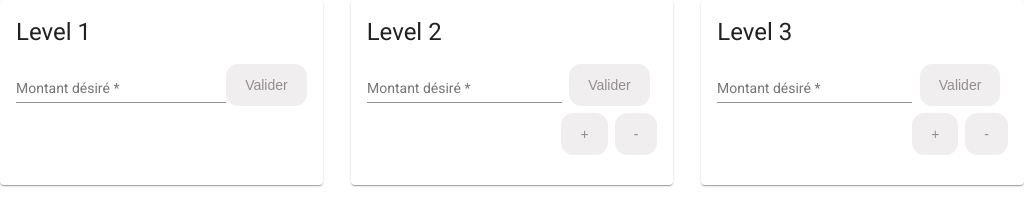
Test: Level 2 - Combination › Field required
Click the 2nd number field labelled "Montant désiré *".
click(465, 89)  # box [367, 81, 562, 97]
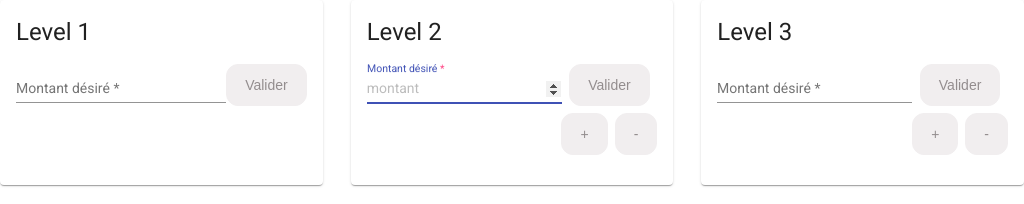
Click the heading "Level 2".
click(405, 32)  # box [367, 18, 442, 46]
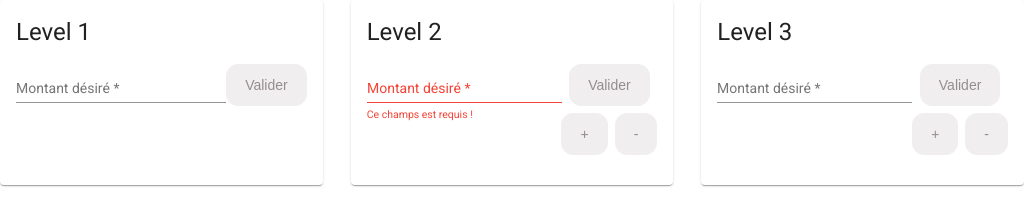
Result: the text "Ce champs est requis !" is shown at [367, 109, 473, 120]
